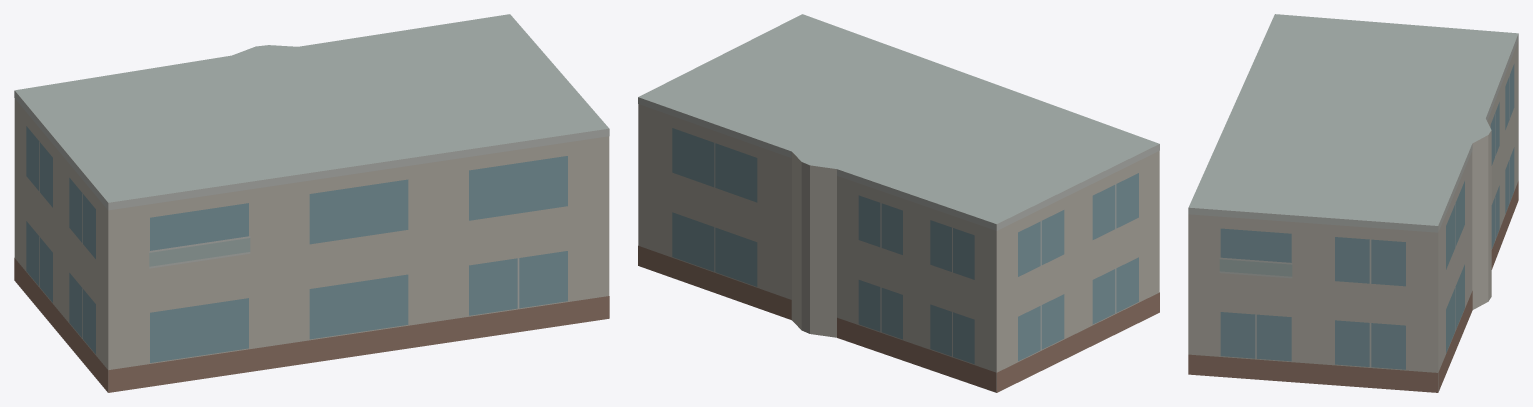
Rendered from survey-upis-32623875.glb.
3 renders of one model, left to right at view 1: azimuth 30°, elevation 25°; view 2: azimuth 150°, elevation 25°; view 3: azimuth 270°, elevation 25°, orthographic. The views are drawn at different scales.
Visible parts, largest first — view 1: survey-upis-32623875.tmp; view 2: survey-upis-32623875.tmp; view 3: survey-upis-32623875.tmp.
Boxes of the visible parts, x1,y1,x2,y2 form: survey-upis-32623875.tmp: (14, 14, 609, 392); survey-upis-32623875.tmp: (638, 14, 1159, 392); survey-upis-32623875.tmp: (1188, 14, 1518, 392).
Bounding box in the file's own units: 16.63 × 6.1 × 10.95.
